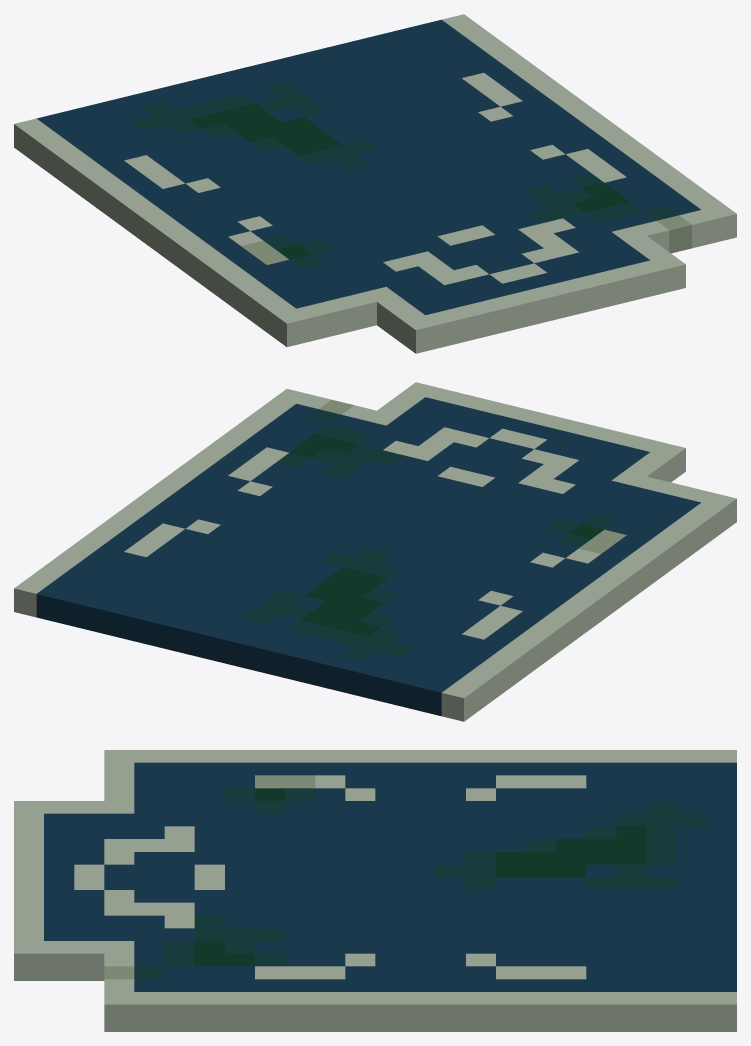
The model's file is BlueRug_End_01.obj.
3 renders of one model, top to bottom at view 1: azimuth 30°, elevation 25°; view 2: azimuth 150°, elevation 25°; view 3: azimuth 270°, elevation 25°, orthographic. The views are drawn at different scales.
Visible parts, largest first — view 1: BlueRug_End_01.001; view 2: BlueRug_End_01.001; view 3: BlueRug_End_01.001.
Part boxes in pixels (left/top/right/bottom): BlueRug_End_01.001: left=14, top=14, right=736, bottom=353; BlueRug_End_01.001: left=14, top=382, right=736, bottom=721; BlueRug_End_01.001: left=14, top=750, right=736, bottom=1031.
Size of the model in its own units: 2 by 0.1 by 2.4.
